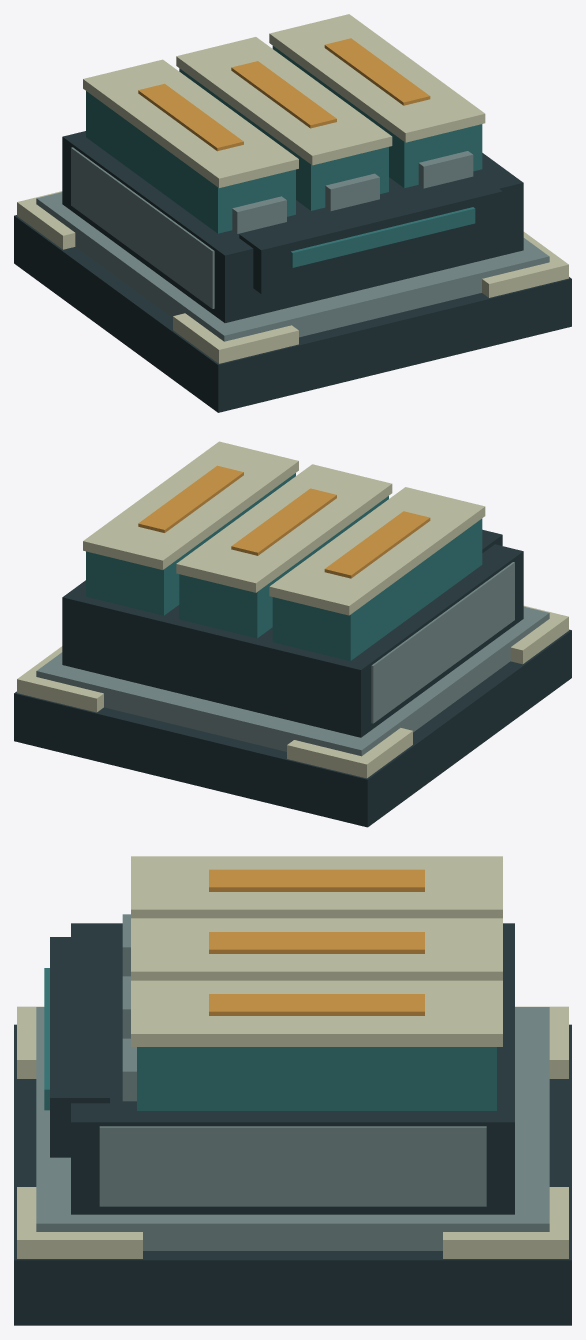
Rendered from grid-buffer.glb.
3 renders of one model, top to bottom at view 1: azimuth 30°, elevation 25°; view 2: azimuth 150°, elevation 25°; view 3: azimuth 270°, elevation 25°, orthographic. The views are drawn at different scales.
Visible parts, largest first — view 1: Batched static factory; view 2: Batched static factory; view 3: Batched static factory.
Boxes of the visible parts, bbox=[...] form: Batched static factory: bbox=[14, 14, 571, 412]; Batched static factory: bbox=[14, 441, 571, 827]; Batched static factory: bbox=[14, 856, 571, 1325].
Bounding box in the file's own units: 1.86 × 0.982 × 1.86.
